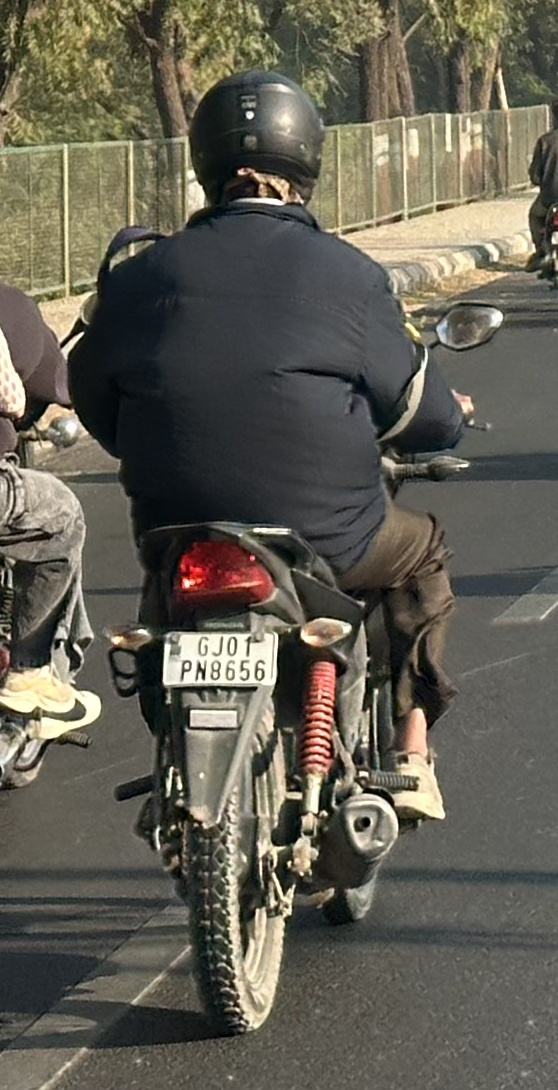BikeWithRider: (45, 59, 514, 1046)
Helmet: (170, 59, 339, 230)
